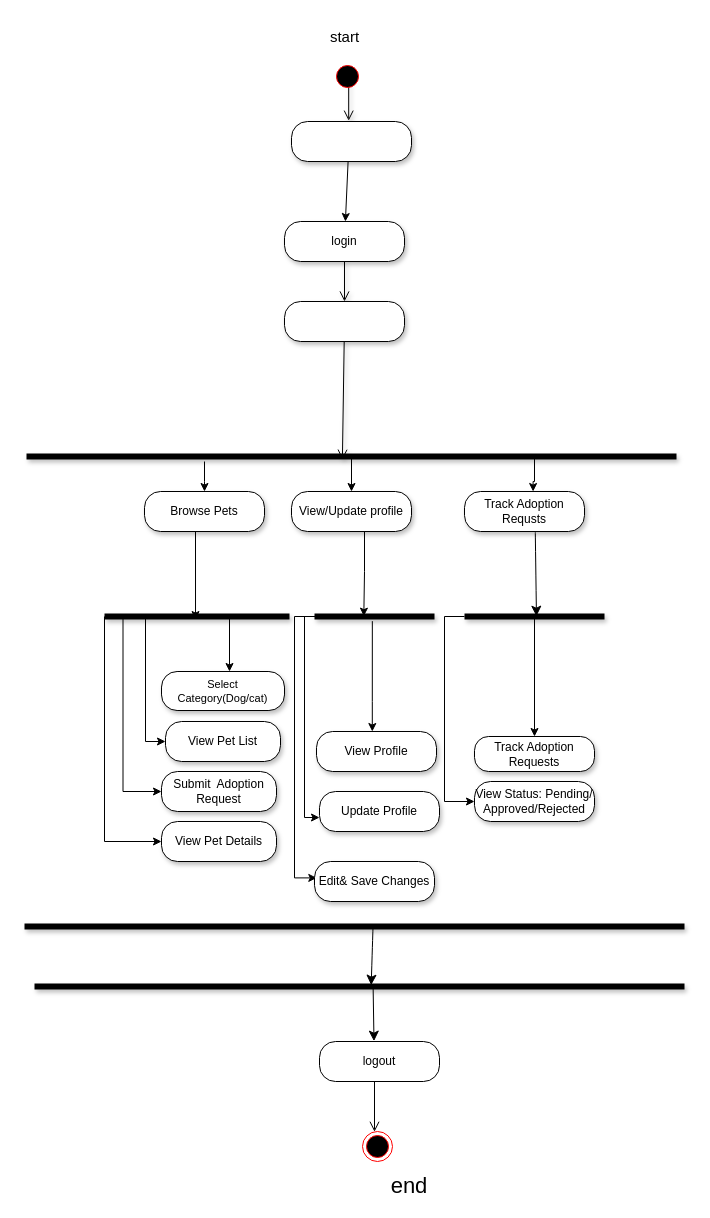
This 710x1218 diagram has some shape labels left out. Here are the shapes that lost their labels. From the top down, the centre of each, then its label:
(x=352, y=142): visit website
(x=345, y=322): User Dahboard
